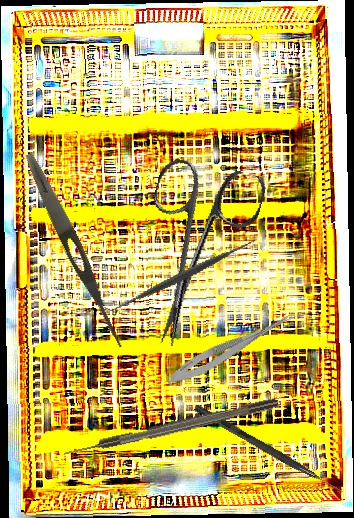Dressing Forceps: (19, 150, 131, 351)
Hook Surgical: (192, 404, 346, 495), (62, 397, 280, 459)
Iris Scissors: (117, 151, 269, 359)
Micro Scissor: (163, 303, 299, 391)
Spatula Surgical: (103, 195, 262, 356)
